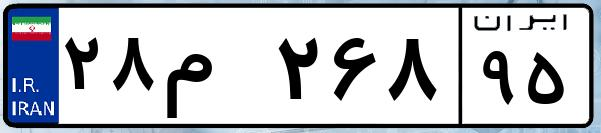2: (270, 28, 330, 110), (57, 26, 110, 100)
5: (525, 38, 570, 115)
6: (330, 28, 385, 110)
8: (385, 28, 445, 110), (110, 28, 158, 98)
9: (475, 38, 525, 113)
م: (158, 20, 270, 120)
